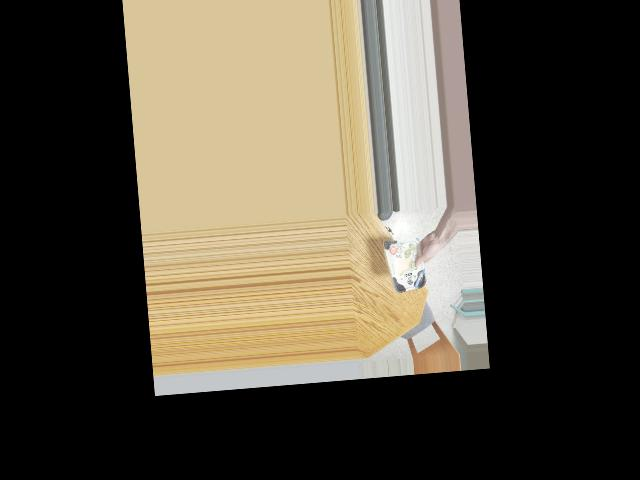cheese: (384, 236, 432, 293)
